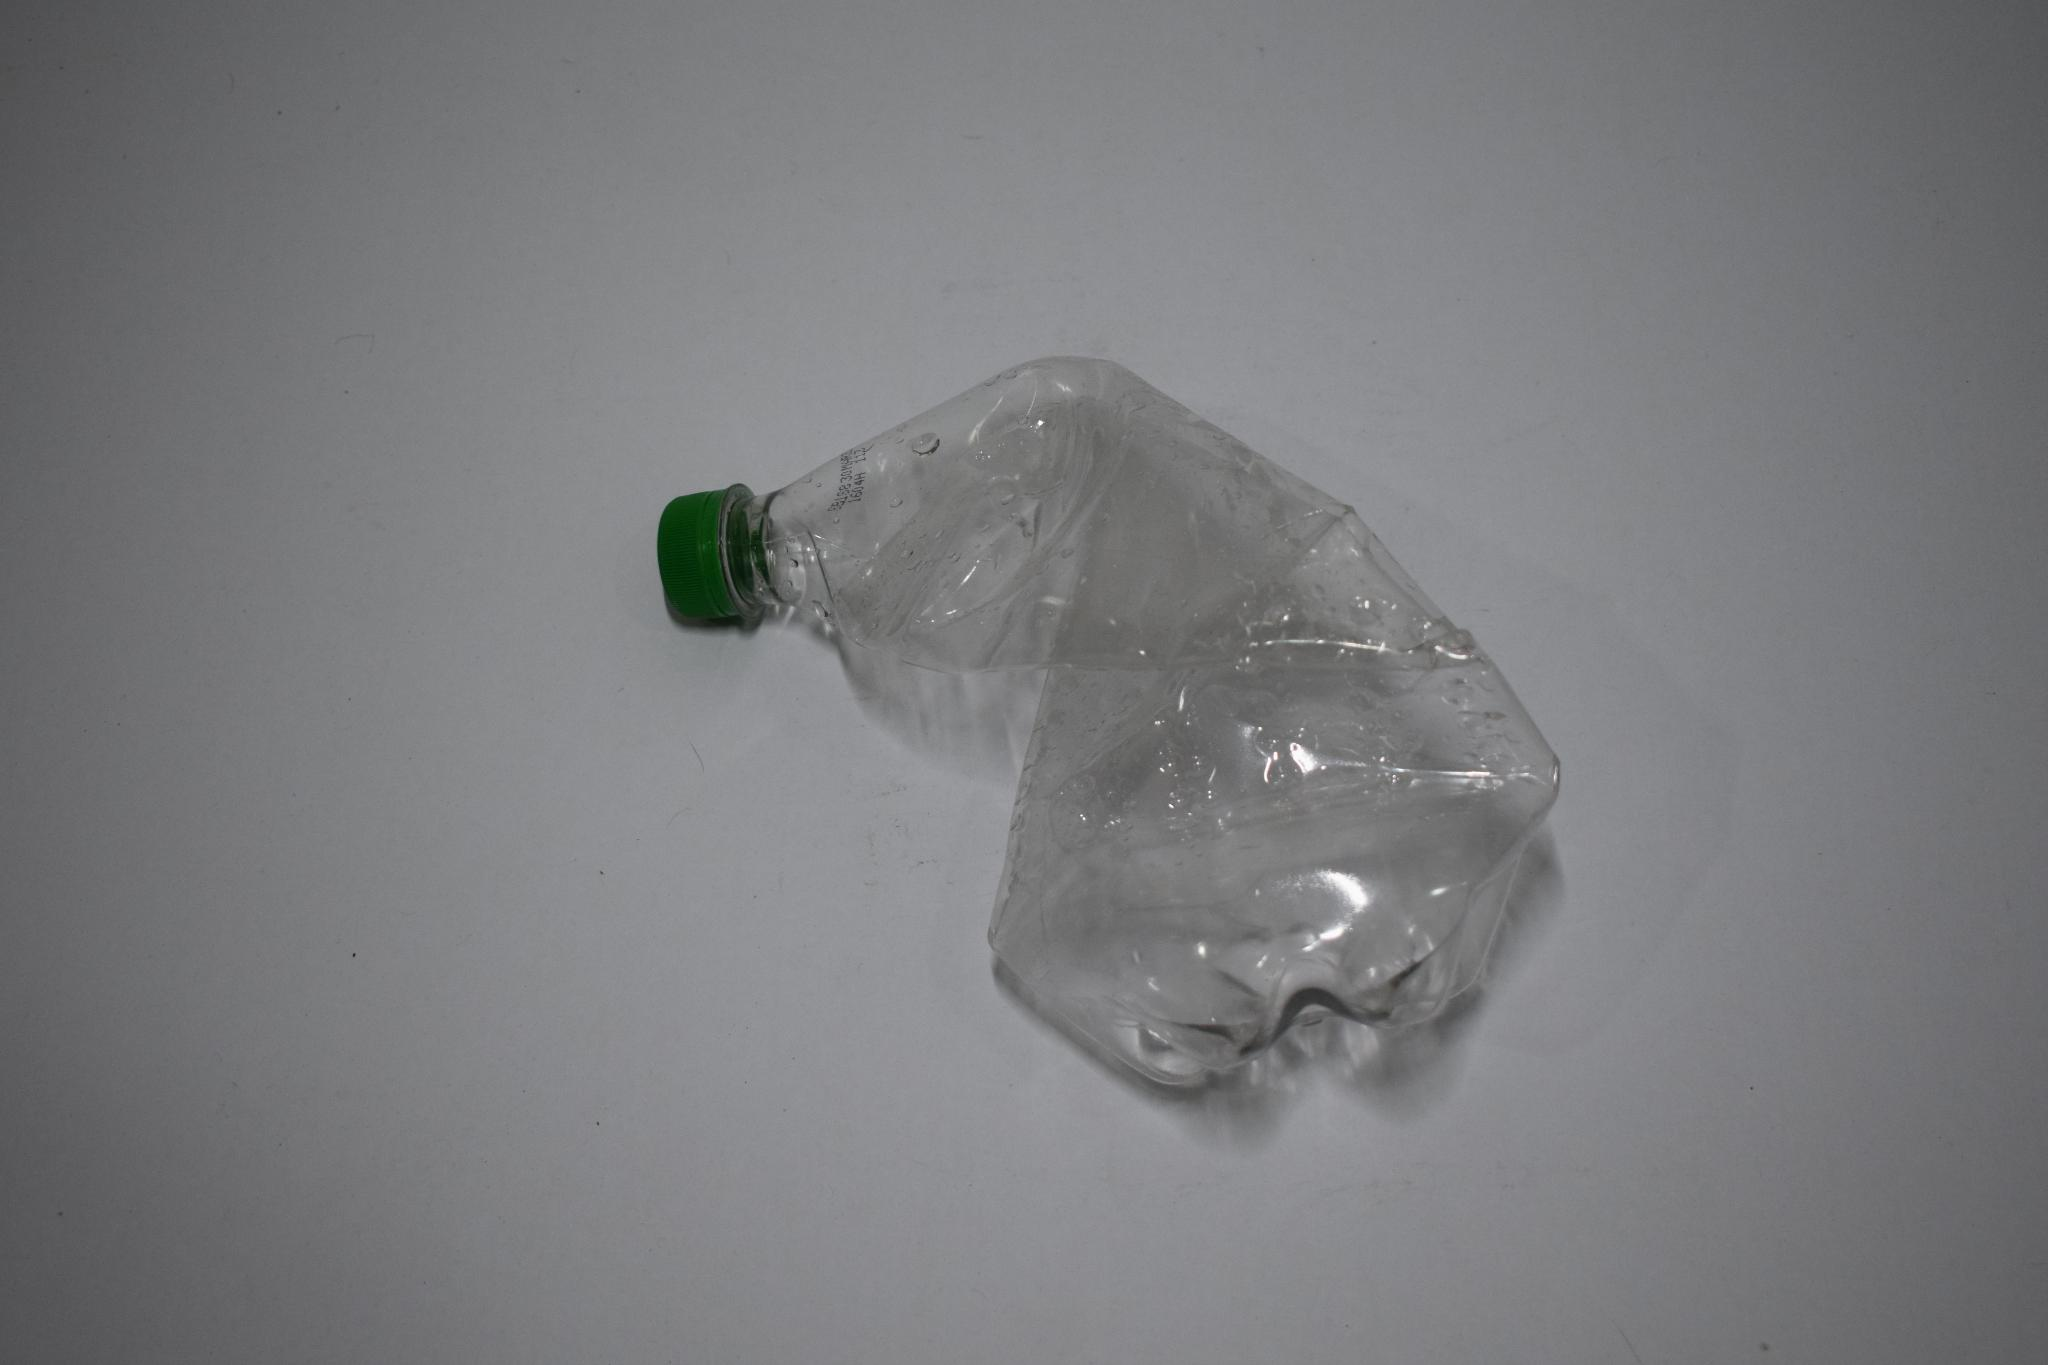bottle: (598, 341, 1661, 1121)
